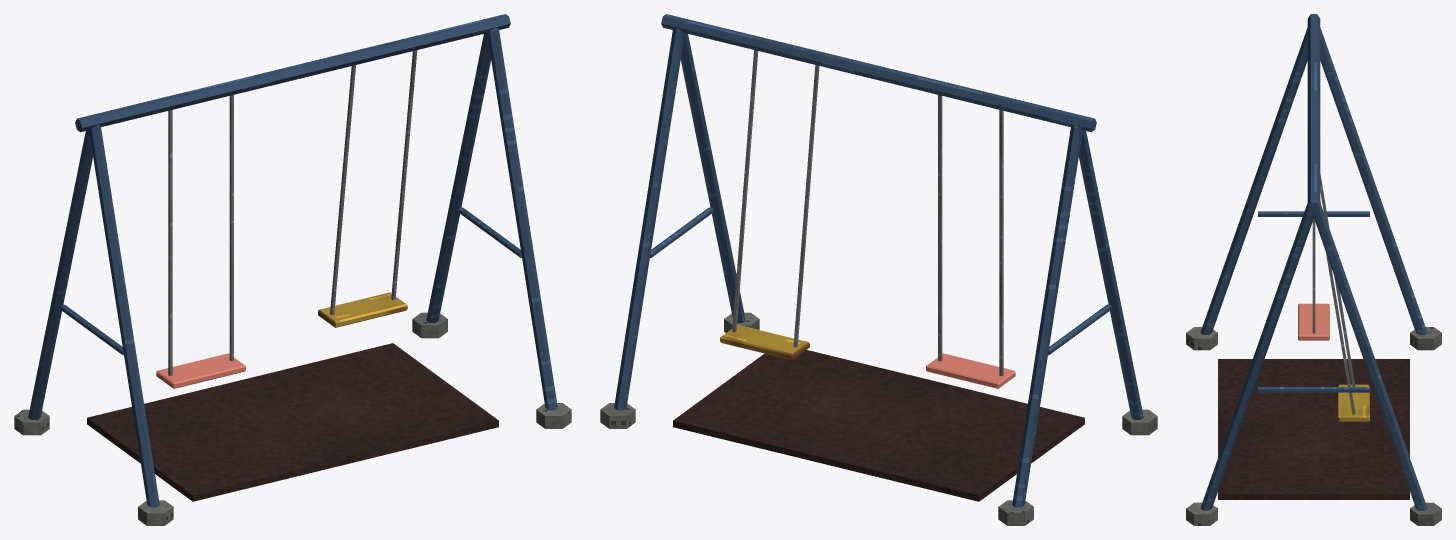
Rendered from swing_set.glb.
3 renders of one model, left to right at view 1: azimuth 30°, elevation 25°; view 2: azimuth 150°, elevation 25°; view 3: azimuth 270°, elevation 25°, orthographic. The views are drawn at different scales.
Visible parts, largest first — view 1: swing_set; view 2: swing_set; view 3: swing_set.
Boxes of the visible parts, left/top/right/bottom form: swing_set: left=14, top=14, right=571, bottom=525; swing_set: left=600, top=14, right=1157, bottom=525; swing_set: left=1186, top=14, right=1441, bottom=525.
Size of what is drawn, in the model's own units: 2.8 by 2.25 by 1.6.
Materials: 6 (5 with a texture image).
